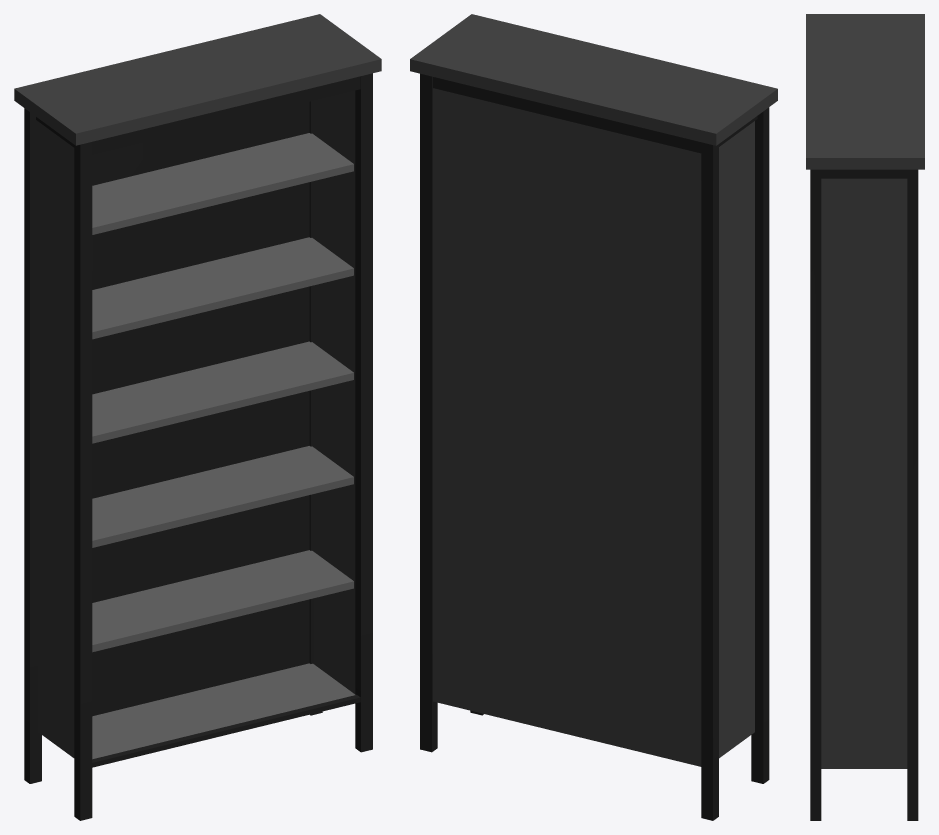
Rendered from shelf_048.glb.
3 views of the same model, side by side, from view 1: azimuth 30°, elevation 25°; view 2: azimuth 150°, elevation 25°; view 3: azimuth 270°, elevation 25° (orthographic). The views are drawn at different scales.
Visible parts, largest first — view 1: shelf_048; view 2: shelf_048; view 3: shelf_048.
Part boxes in pixels (x1,y1,x2,y2): shelf_048: (14, 14, 381, 820); shelf_048: (410, 14, 777, 820); shelf_048: (806, 14, 924, 820).
Size of the model in its own units: 0.9208 by 1.99 by 0.3213.
1 material, 1 textured.
